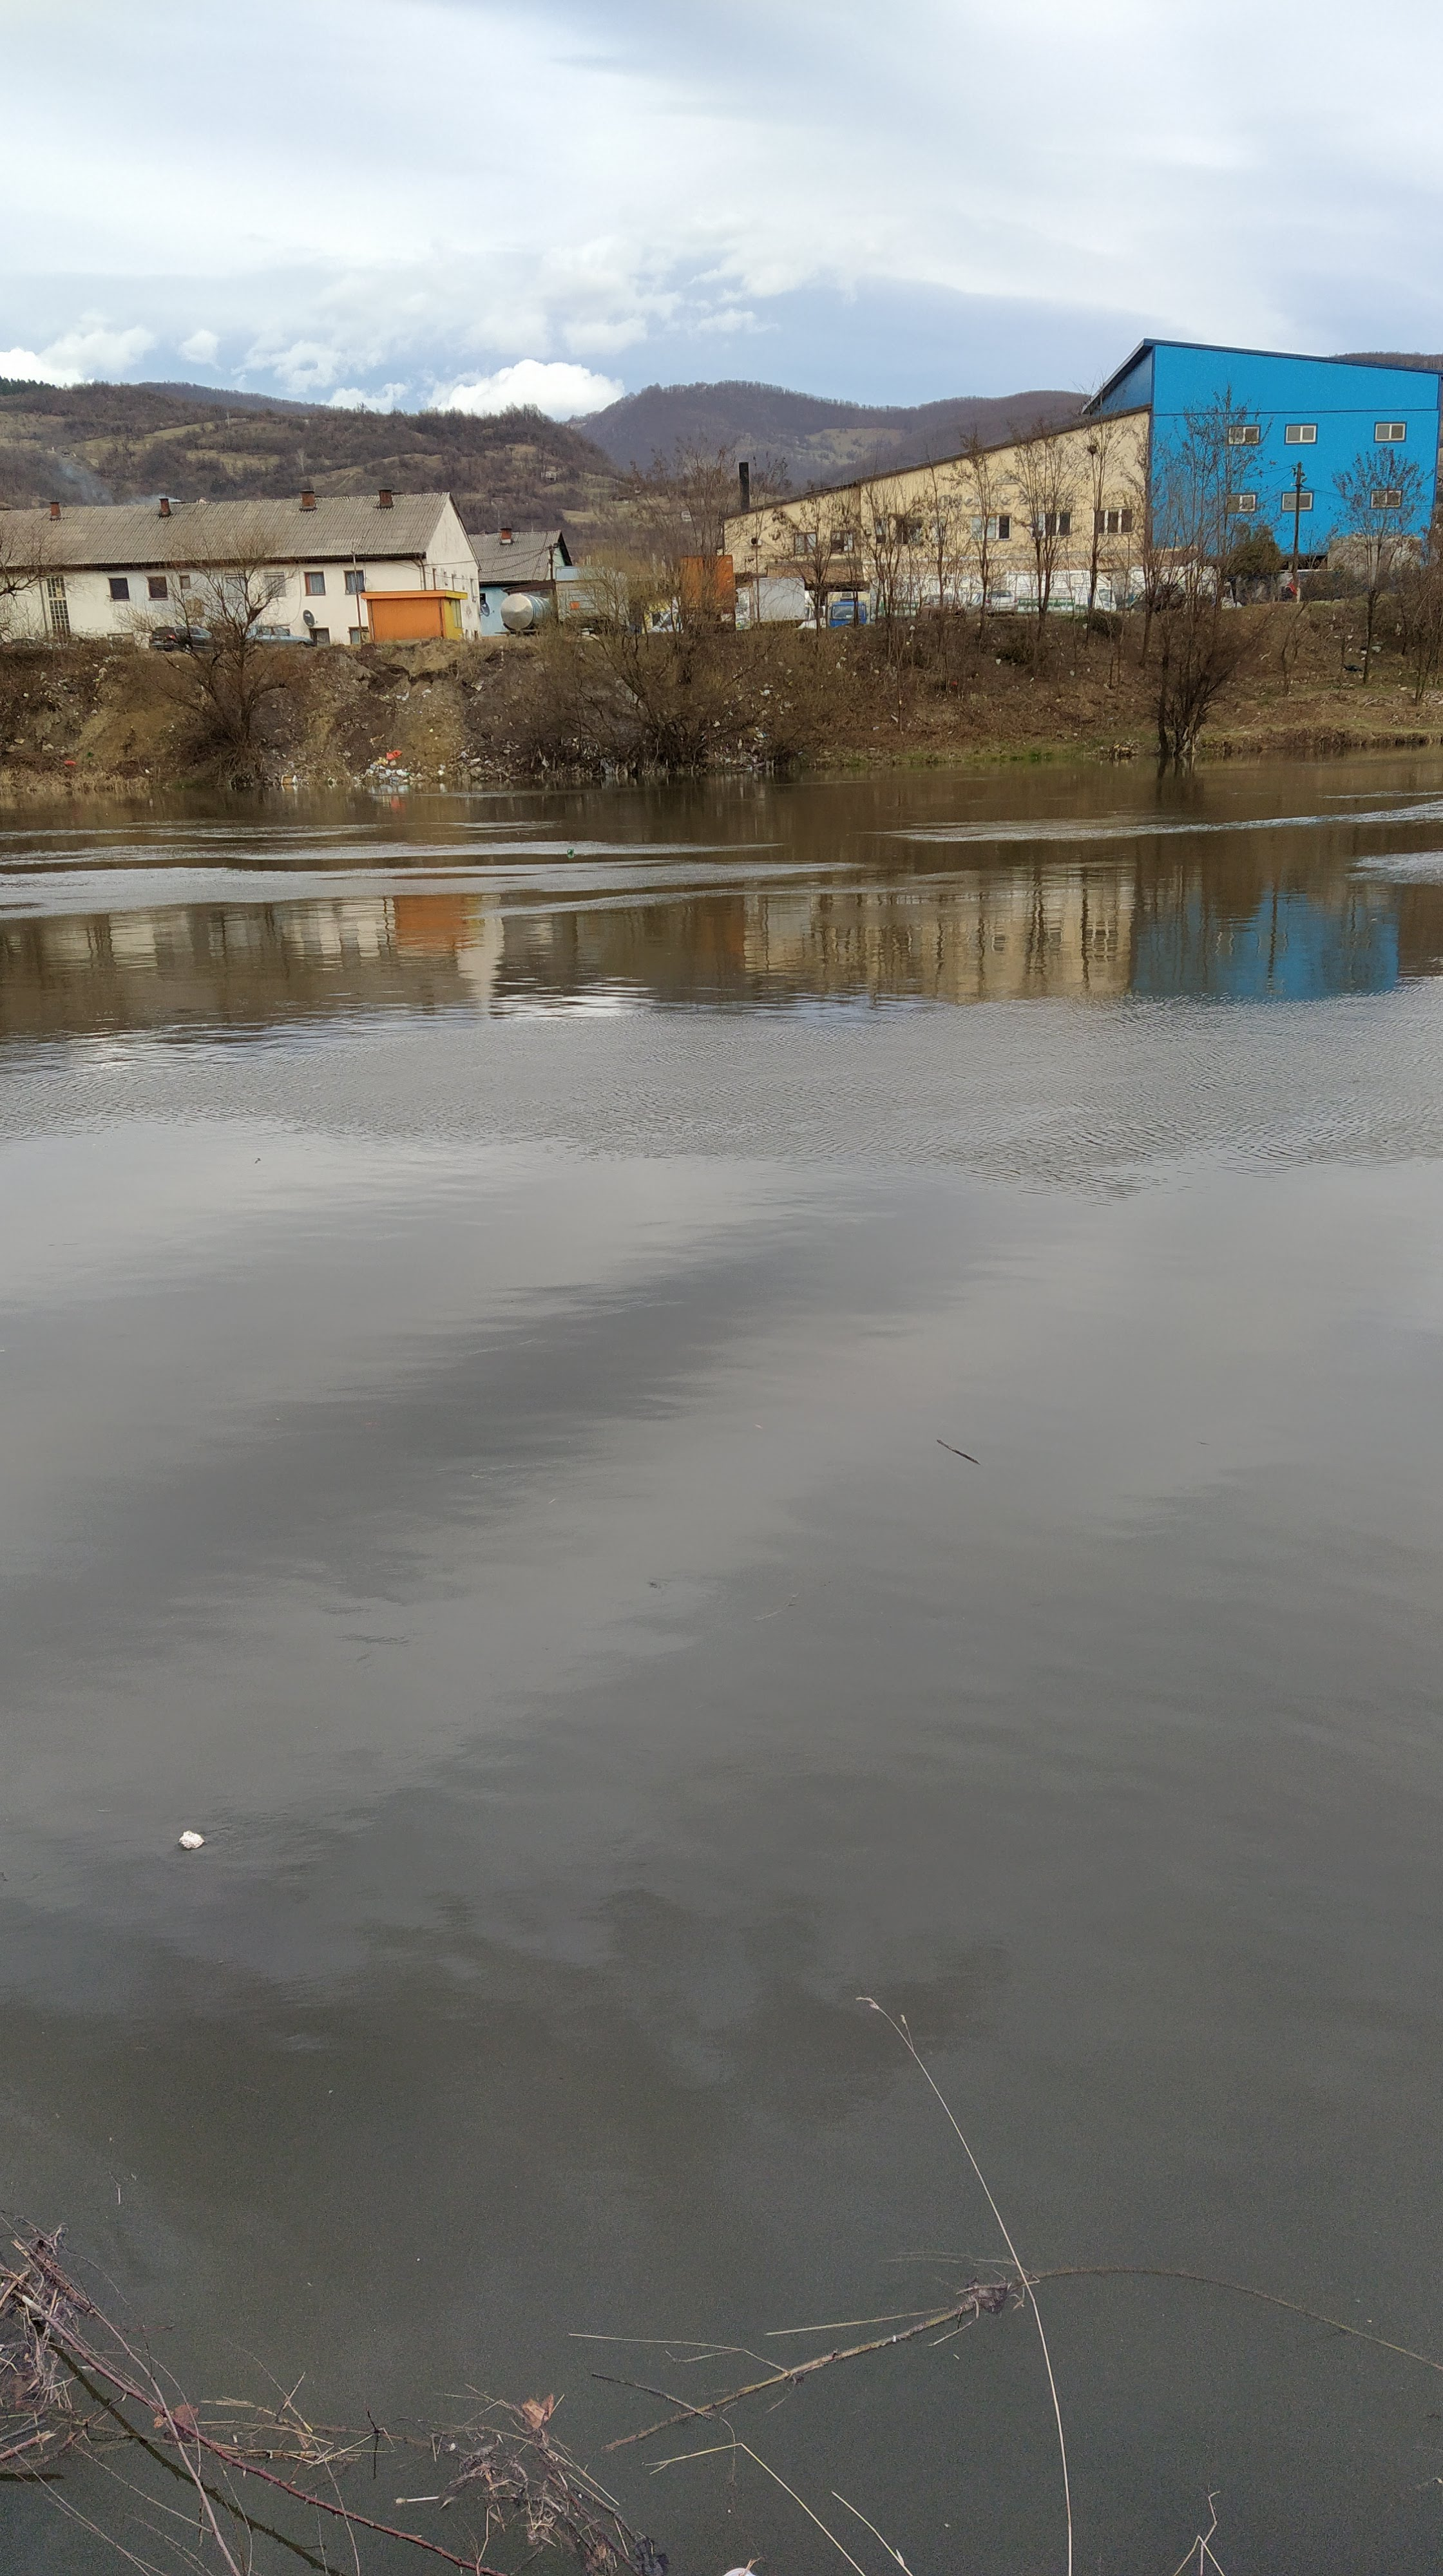Plastic Bottle: (568, 847, 574, 855)
